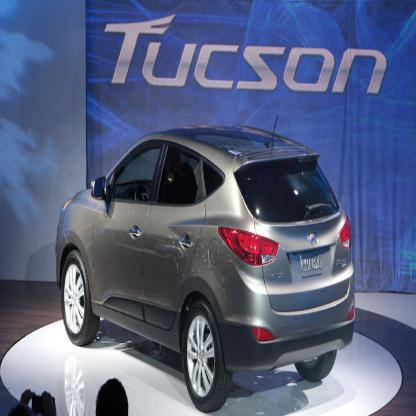Vehicle: (55, 127, 356, 412)
